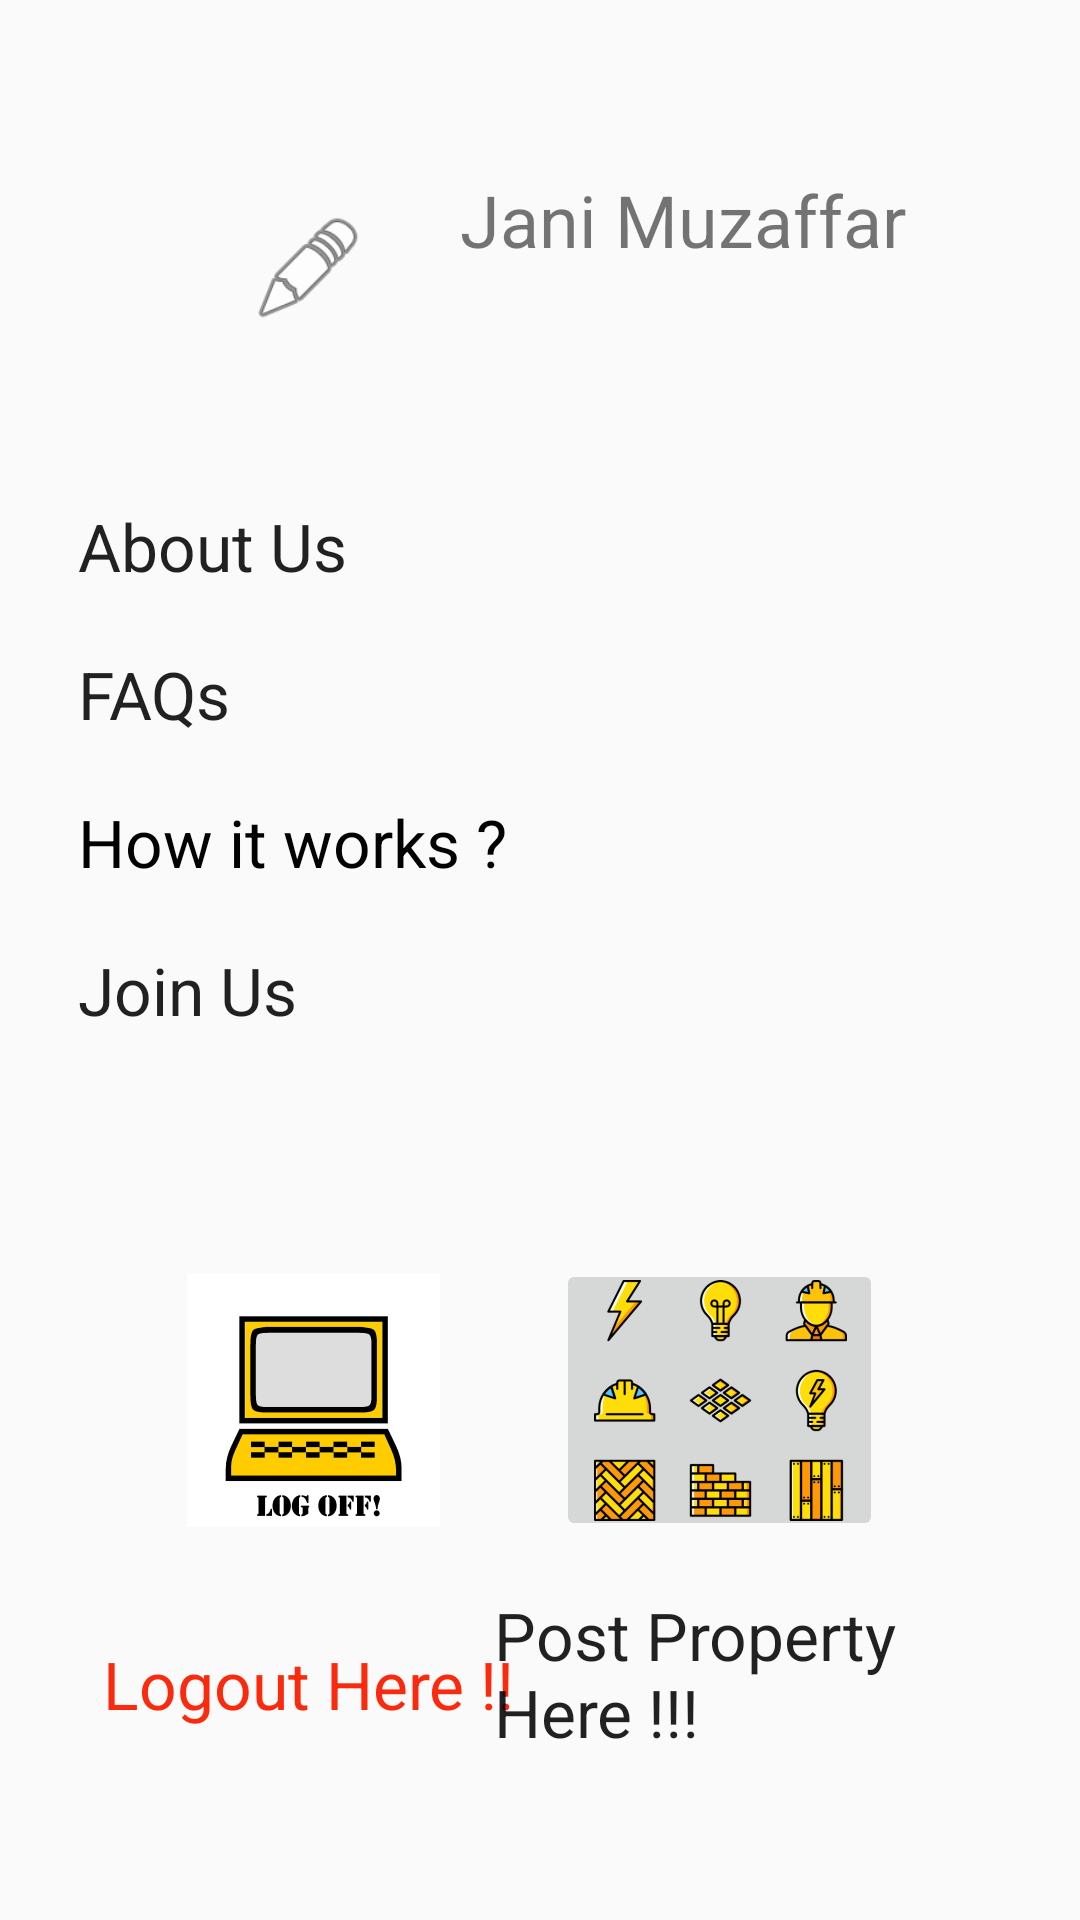

Screen size 1080 × 1920. Icon name, then its box in pixels as (x1, y1, x2, y2):
edit: (258, 218, 358, 317)
